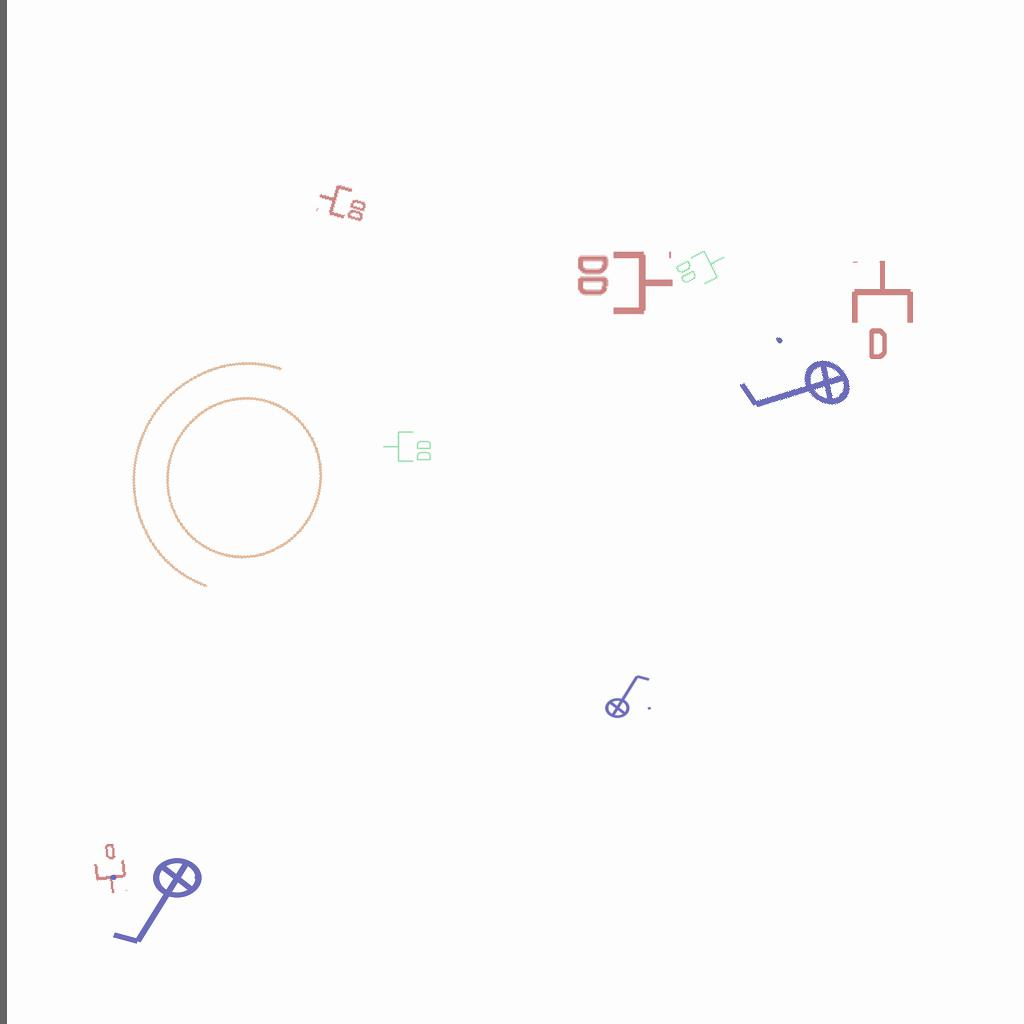Ausschalter_beleuchtet: (723, 318, 871, 464), (104, 856, 216, 952), (598, 671, 654, 719)
Datenanschluss_einfach: (848, 259, 917, 359), (90, 842, 130, 896)
Datenanschluss_zweifach: (573, 250, 676, 319), (672, 241, 733, 295), (313, 178, 373, 225), (382, 430, 433, 464)
Scheinwerfer_fuer_Alarmbeleuchtung: (83, 319, 383, 642)
